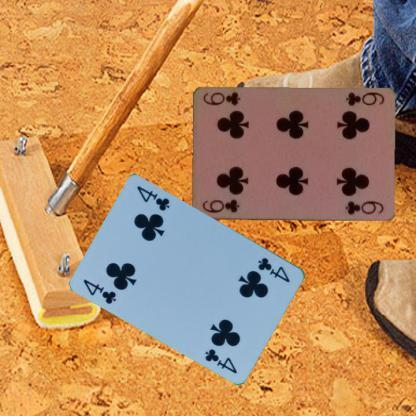4c: (81, 276, 118, 306), (256, 254, 292, 284)
6c: (342, 90, 384, 107), (200, 197, 240, 214)
